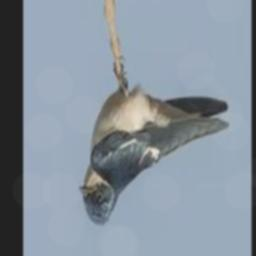Swallow: (79, 72, 229, 226)
